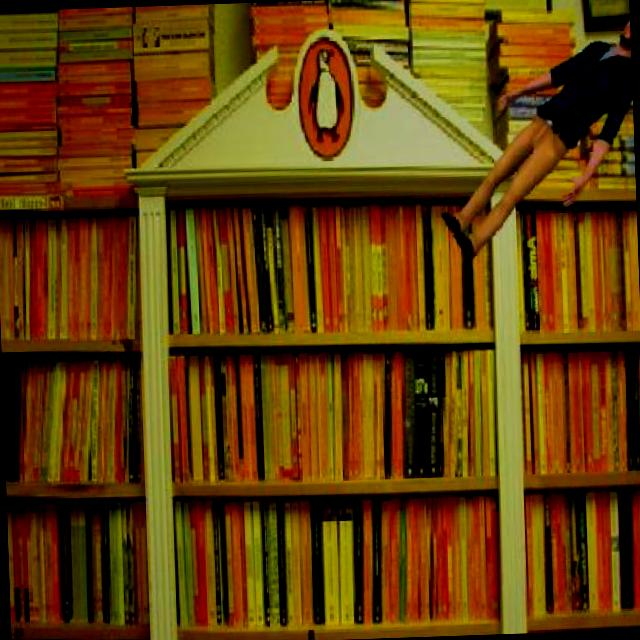Person: (432, 18, 638, 265)
